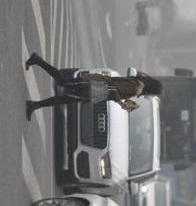person: (24, 49, 164, 121)
